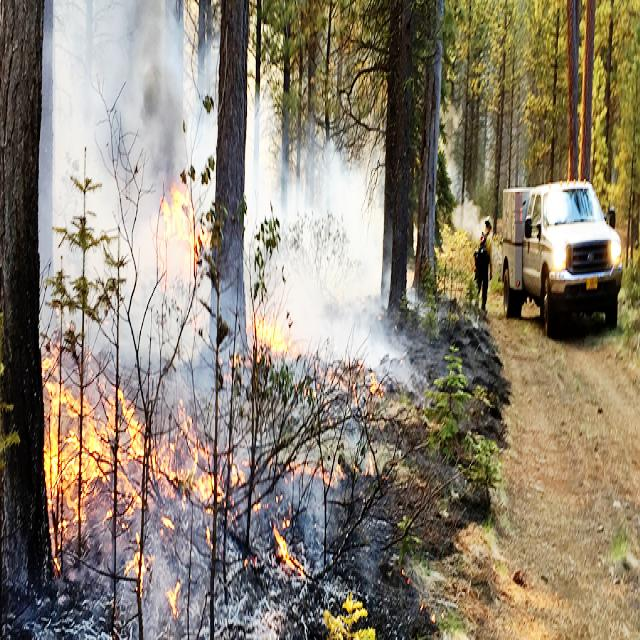api: (43, 363, 94, 562), (98, 400, 145, 511), (163, 432, 221, 504), (160, 170, 196, 251), (270, 524, 301, 587), (254, 322, 289, 359), (129, 542, 147, 588), (166, 584, 182, 616)
asap: (58, 4, 215, 176), (250, 99, 375, 305), (309, 314, 414, 384), (453, 188, 484, 248)
